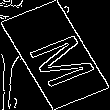M_NE: (14, 23, 96, 87)
